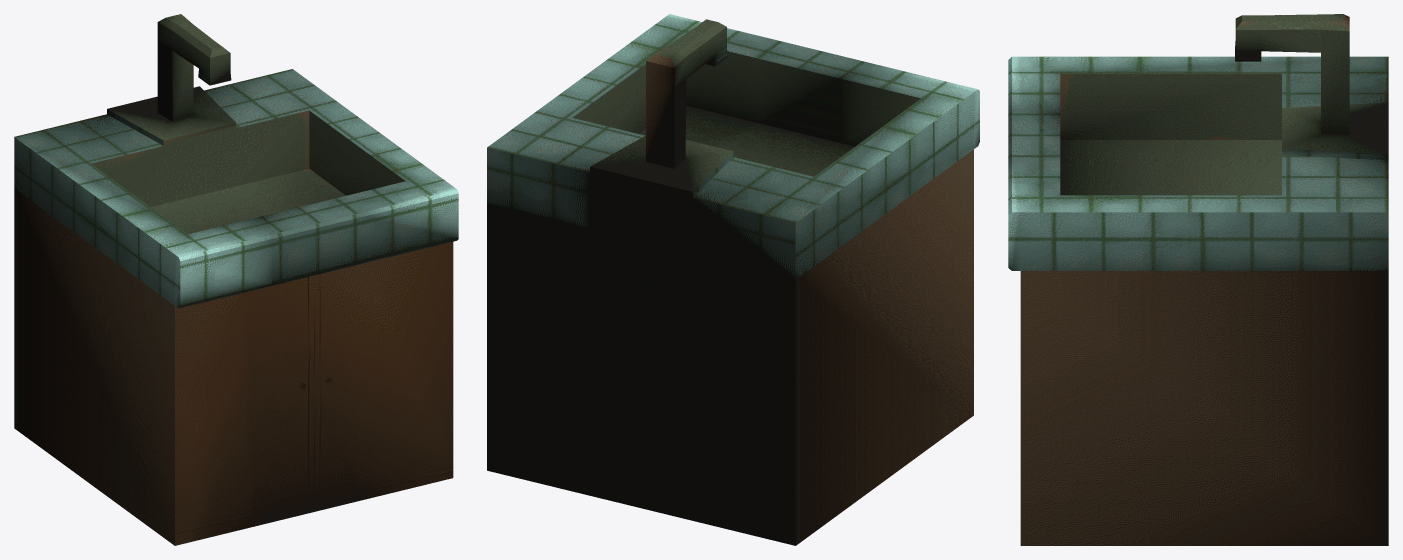
The model's file is LD56_KitchenSink.fbx.
The picture shows the model from 3 angles, left to right: view 1: azimuth 30°, elevation 25°; view 2: azimuth 150°, elevation 25°; view 3: azimuth 270°, elevation 25°; orthographic projection. The views are drawn at different scales.
Parts seen in each view (by area): view 1: sink; view 2: sink; view 3: sink.
Boxes of the visible parts, x1=… form: sink: x1=14, y1=14, x2=458, y2=545; sink: x1=487, y1=14, x2=979, y2=545; sink: x1=1008, y1=14, x2=1388, y2=545.
Bounding box in the file's own units: 200 × 270 × 207.
